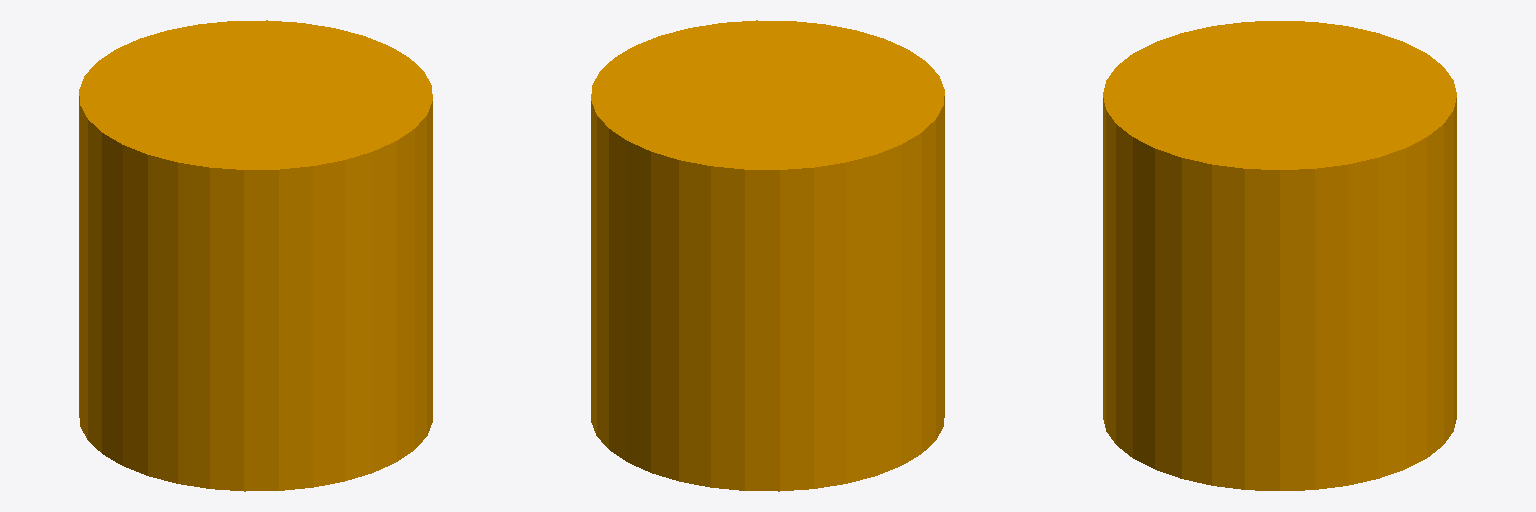
robot.urdf — red_cylinder:
<?xml version='1.0'?>
<robot name='red_cylinder'>

<link name="base_link">
  <collision>
    <origin xyz="0 0 0.1" rpy="0 0 0"/>
    <geometry>
      <cylinder length="0.1" radius="0.05"/>
    </geometry>
  </collision>

  <visual>
    <origin xyz="0 0 0.1" rpy="0 0 0"/>
    <geometry>
      <cylinder length="0.1" radius="0.05"/>
    </geometry>
  </visual>

  <inertial>
    <origin xyz="0 0 0.1" rpy="0 0 0"/>
    <mass value="1"/>
    <inertia
      ixx="0.0001" ixy="0.0" ixz="0.0"
      iyy="0.0001" iyz="0.0"
      izz="0.0001"/>
  </inertial>
</link>

<gazebo reference="base_link">
  <material>Gazebo/Red</material>
</gazebo>

</robot>

--- What the picture shows (computed from the rendered views, not written in the file) ---
The picture shows the robot from 3 angles, left to right: view 1: azimuth 30°, elevation 25°; view 2: azimuth 150°, elevation 25°; view 3: azimuth 270°, elevation 25°; orthographic projection.
Model red_cylinder with 1 links and 0 joints (none), rooted at base_link, posed all joints at 0.
Links seen in each view (by area): view 1: base_link; view 2: base_link; view 3: base_link.
Link boxes in pixels (<box>): base_link: <box>79,20,432,491</box>; base_link: <box>591,20,944,491</box>; base_link: <box>1103,21,1456,490</box>.
Bounding box of the posed robot: 0.1 × 0.1 × 0.1 m (x, y, z).
Geometry: primitives only (box / cylinder / sphere), no mesh files.
